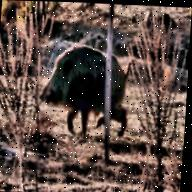boar: (28, 33, 145, 140)
